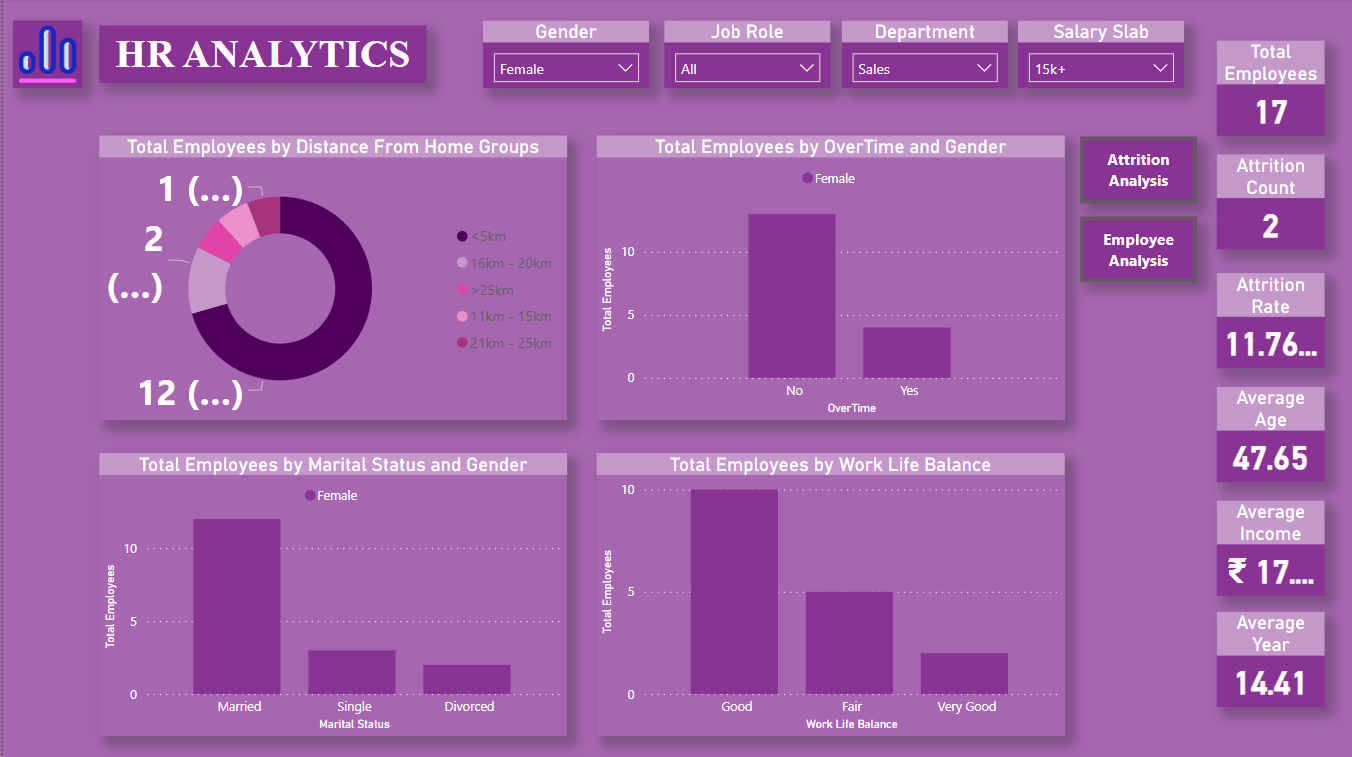

Layout of this report page (visuals, bound fields, positions):
{"tool":"powerbi","page":{"name":"Page 2","canvas":[1280,720],"ordinal":1},"visuals":[{"type":"card","title":"Total Employees","fields":{"Values":["HR_Analytics.Total Employees"]},"box":[1151.2,40,102.5,90],"z":0},{"type":"card","title":"Attrition Rate","fields":{"Values":["HR_Analytics.Attrition rate"]},"box":[1151.2,261.2,102.5,90],"z":1000},{"type":"card","title":"Average Age","fields":{"Values":["HR_Analytics.Average age"]},"box":[1151.2,368.8,102.5,90],"z":2000},{"type":"card","title":"Average Income","fields":{"Values":["HR_Analytics.Average monthly Income"]},"box":[1151.2,476.2,102.5,90],"z":3000},{"type":"card","title":"Average Year","fields":{"Values":["HR_Analytics.Average Year at Company"]},"box":[1151.2,582.5,102.5,90],"z":4000},{"type":"card","title":"Attrition Count","fields":{"Values":["HR_Analytics.Attrition Count"]},"box":[1151.2,148.8,102.5,90],"z":5000},{"type":"donutChart","fields":{"Y":["HR_Analytics.Total Employees"],"Category":["HR_Analytics.Distance From Home Groups"]},"box":[91.2,130,443.8,270],"z":6000},{"type":"clusteredColumnChart","fields":{"Y":["HR_Analytics.Total Employees"],"Category":["HR_Analytics.OverTime"],"Series":["HR_Analytics.Gender"]},"box":[563.8,130,443.8,270],"z":7000},{"type":"clusteredColumnChart","fields":{"Series":["HR_Analytics.Gender"],"Y":["HR_Analytics.Total Employees"],"Category":["HR_Analytics.Marital Status"]},"box":[91.2,431.2,443.8,268.8],"z":8000},{"type":"clusteredColumnChart","fields":{"Category":["HR_Analytics.Work Life Balance"],"Y":["HR_Analytics.Total Employees"]},"box":[563.8,431.2,443.8,268.8],"z":9000},{"type":"slicer","title":"Gender","fields":{"Values":["HR_Analytics.Gender"]},"box":[455.5,21.4,157.8,64.1],"z":10000},{"type":"slicer","title":"Job Role","fields":{"Values":["HR_Analytics.Job Role"]},"box":[627.5,21.4,157.8,64.1],"z":11000},{"type":"slicer","title":"Department","fields":{"Values":["HR_Analytics.Department"]},"box":[795.9,21.4,157.8,64.1],"z":12000},{"type":"slicer","title":"Salary Slab","fields":{"Values":["HR_Analytics.Salary Slab"]},"box":[963.2,21.4,157.8,64.1],"z":13000},{"type":"textbox","box":[91.3,26.1,310.8,54.6],"z":14000},{"type":"image","box":[9.5,21.4,65.2,64.1],"z":15000},{"type":"actionButton","box":[1022.8,131.1,110.1,63.1],"z":16000},{"type":"actionButton","box":[1022.8,207.8,110.1,61.8],"z":17000}]}

Visuals, with their boxes in screenshot pixels (x1, y1, x2, y2), scaled from the page's 1280x720 canvas onto the 1352x757 screenshot:
"Total Employees" card: detection(1216, 42, 1324, 137)
"Attrition Rate" card: detection(1216, 275, 1324, 369)
"Average Age" card: detection(1216, 388, 1324, 482)
"Average Income" card: detection(1216, 501, 1324, 595)
"Average Year" card: detection(1216, 612, 1324, 707)
"Attrition Count" card: detection(1216, 156, 1324, 251)
donutChart - HR_Analytics.Total Employees x HR_Analytics.Distance From Home Groups: detection(96, 137, 565, 421)
clusteredColumnChart - HR_Analytics.Total Employees x HR_Analytics.OverTime: detection(596, 137, 1064, 421)
clusteredColumnChart - HR_Analytics.Gender x HR_Analytics.Total Employees: detection(96, 453, 565, 736)
clusteredColumnChart - HR_Analytics.Work Life Balance x HR_Analytics.Total Employees: detection(596, 453, 1064, 736)
"Gender" slicer: detection(481, 22, 648, 90)
"Job Role" slicer: detection(663, 22, 829, 90)
"Department" slicer: detection(841, 22, 1007, 90)
"Salary Slab" slicer: detection(1017, 22, 1184, 90)
textbox: detection(96, 27, 425, 85)
image: detection(10, 22, 79, 90)
actionButton: detection(1080, 138, 1197, 204)
actionButton: detection(1080, 218, 1197, 283)
